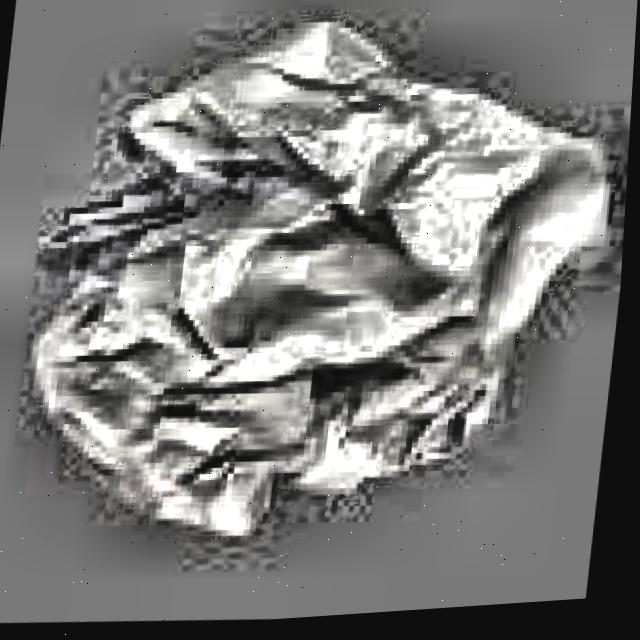paper: (11, 0, 639, 570)
